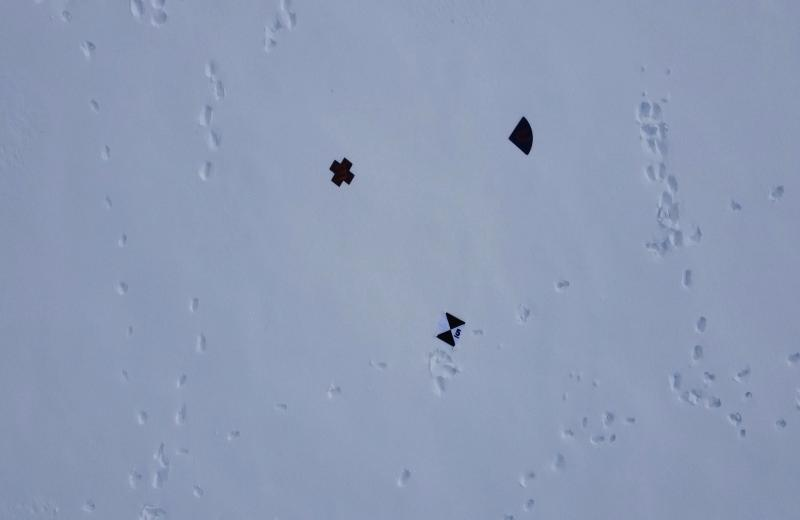Cross: (324, 152, 359, 191)
Quarter Circle: (504, 112, 541, 158)
